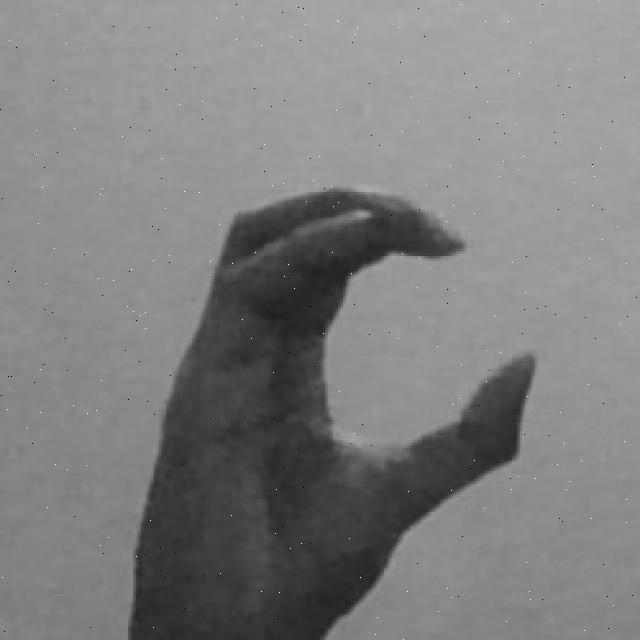C: (123, 181, 544, 640)
